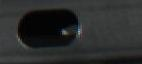holes: (16, 7, 81, 49)
